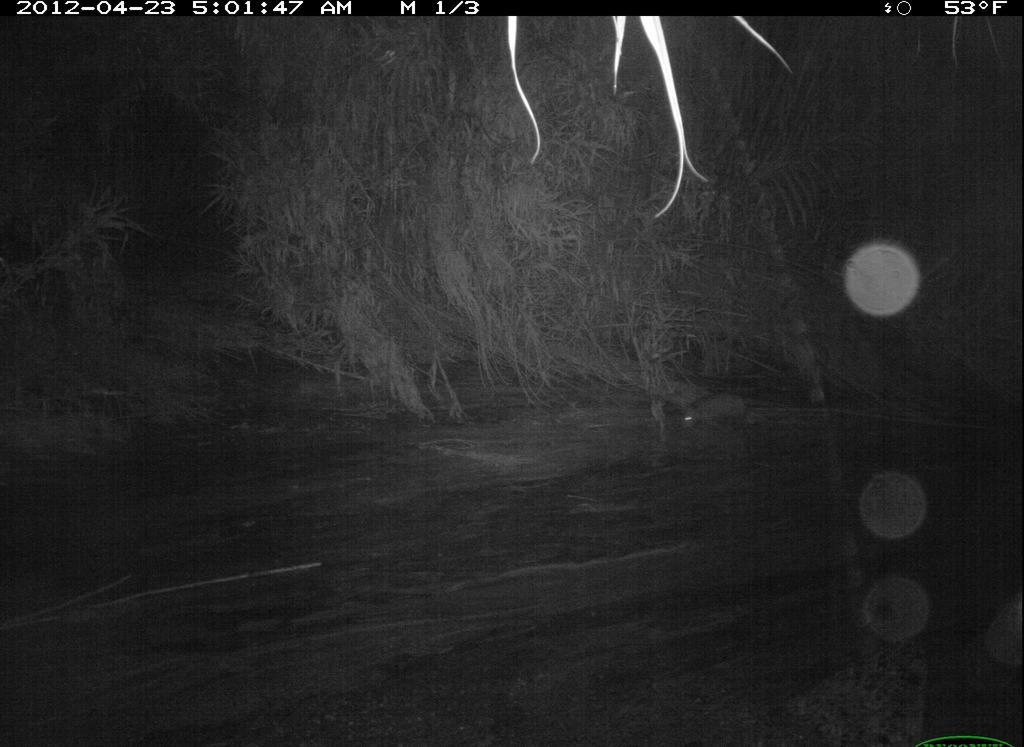opossum: (667, 377, 783, 440)
